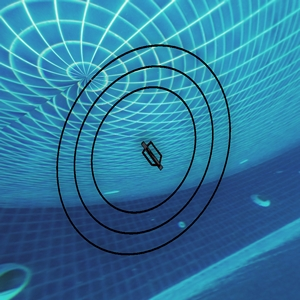circle: (46, 36, 237, 271)
submarine: (142, 142, 163, 172)
